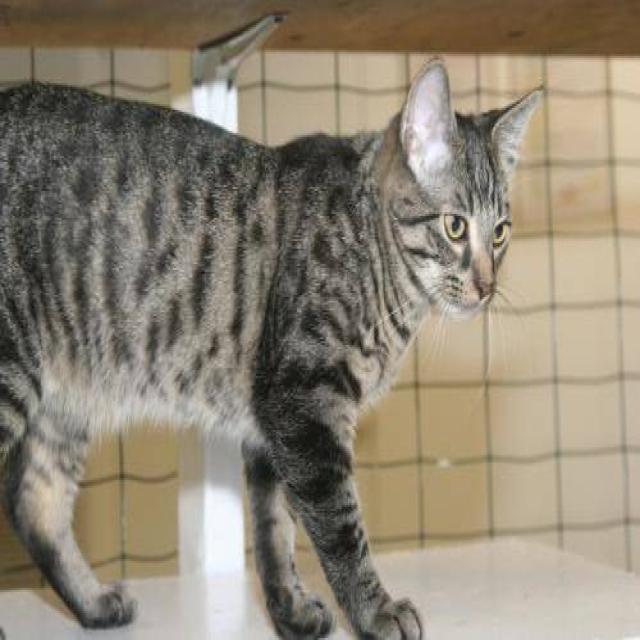cat: (0, 56, 544, 638)
